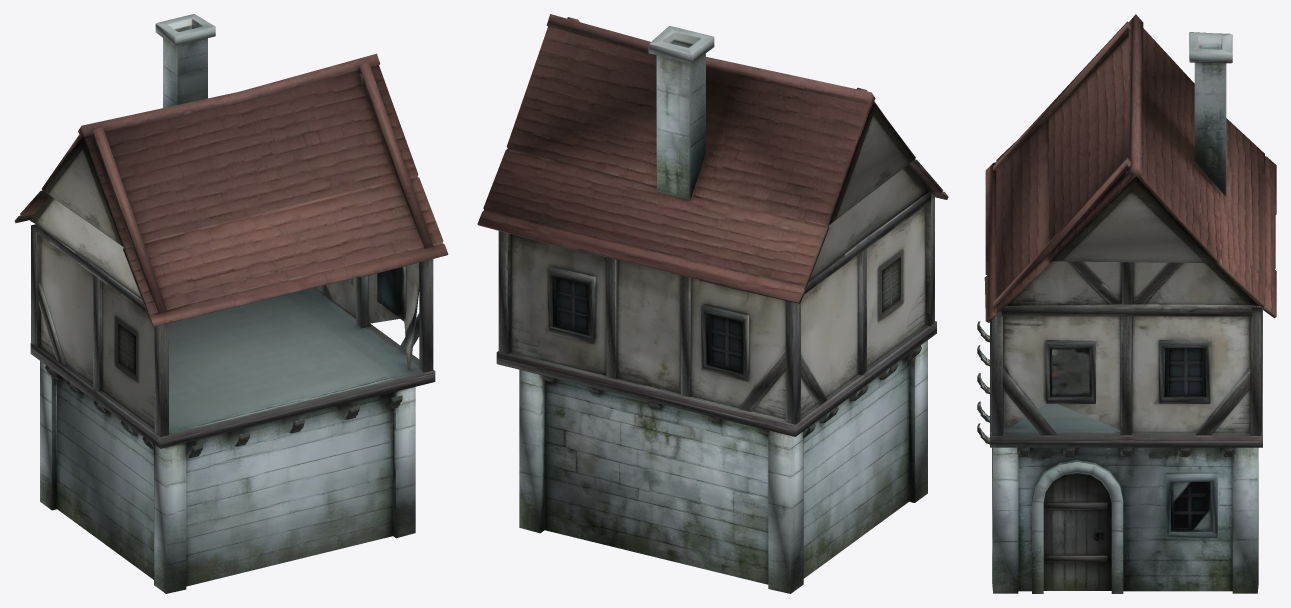
The model's file is townhouse.glb.
3 renders of one model, left to right at view 1: azimuth 30°, elevation 25°; view 2: azimuth 150°, elevation 25°; view 3: azimuth 270°, elevation 25°, orthographic. The views are drawn at different scales.
Visible parts, largest first — view 1: model; view 2: model; view 3: model.
Part boxes in pixels (x1,y1,x2,y2): model: (14, 14, 448, 593); model: (477, 14, 948, 593); model: (977, 14, 1276, 593).
Size of the model in its own units: 0.6673 by 1 by 0.5577.
Materials: 1 (1 with a texture image).
